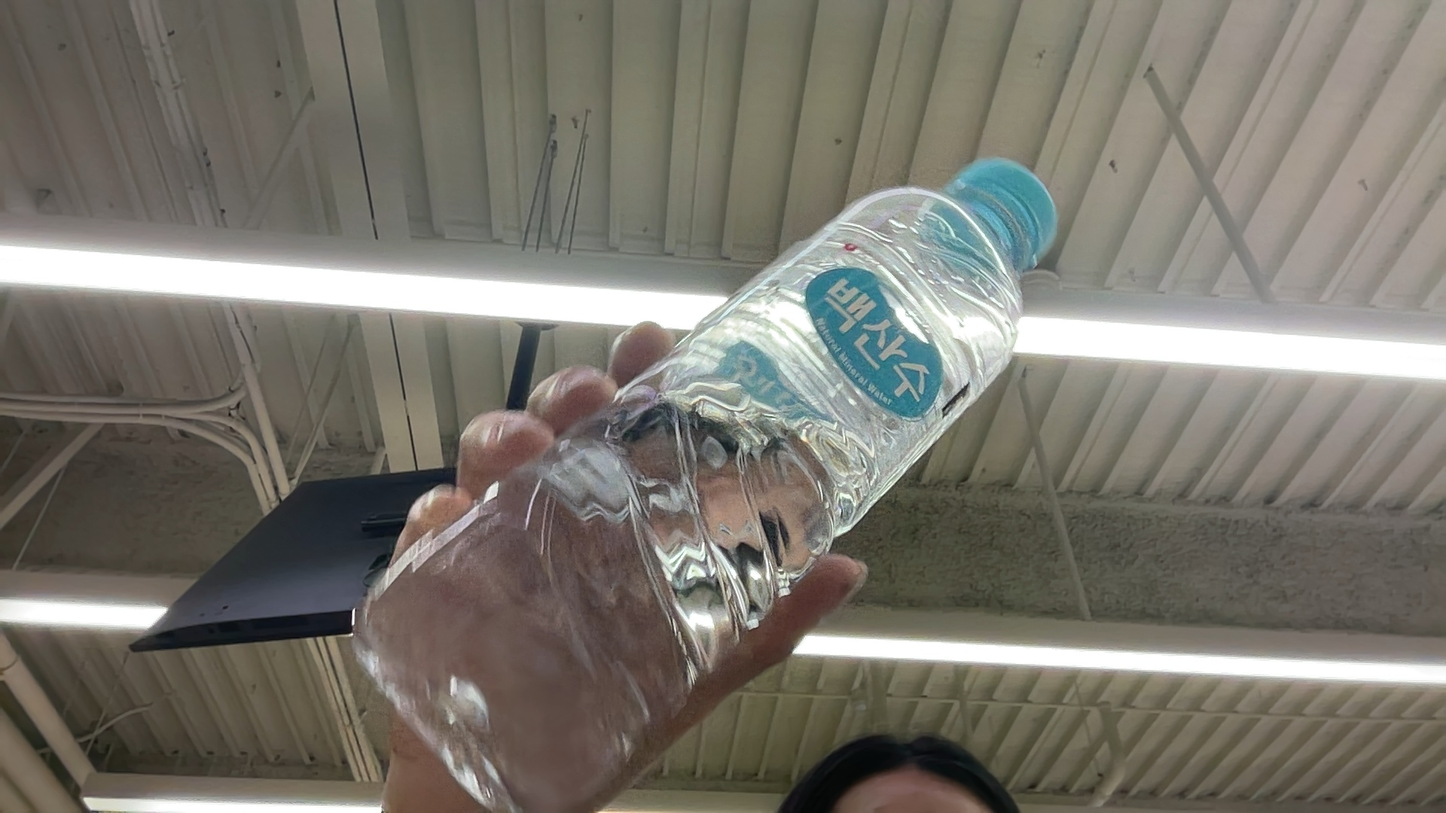Plastic: (339, 144, 1245, 806)
